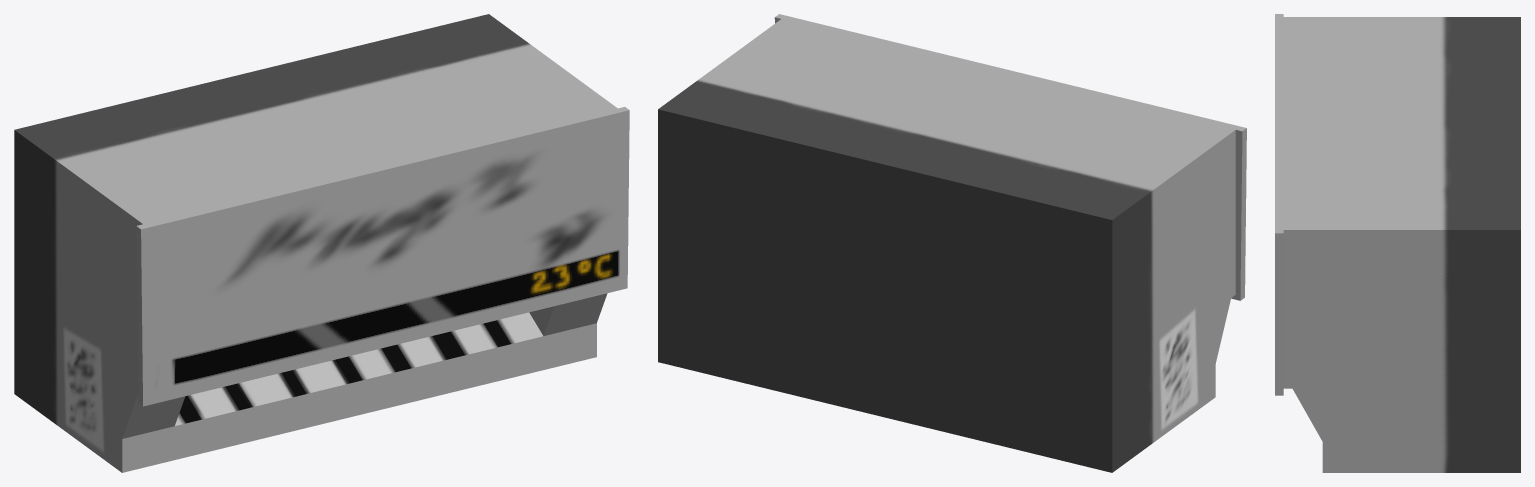
Rendered from AireAcondicionado.FBX.
3 views of the same model, side by side, from view 1: azimuth 30°, elevation 25°; view 2: azimuth 150°, elevation 25°; view 3: azimuth 270°, elevation 25° (orthographic). The views are drawn at different scales.
Visible parts, largest first — view 1: AireAcondicionado; view 2: AireAcondicionado; view 3: AireAcondicionado.
Part boxes in pixels (left/top/right/bottom): AireAcondicionado: left=14, top=14, right=629, bottom=472; AireAcondicionado: left=658, top=14, right=1246, bottom=472; AireAcondicionado: left=1275, top=14, right=1520, bottom=472.
Size of the model in its own units: 140 by 72.38 by 66.43.
